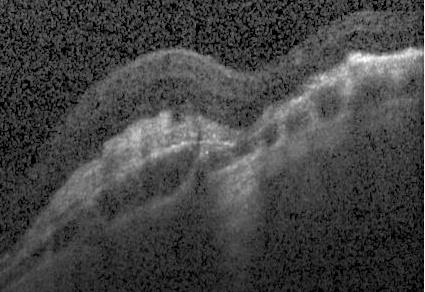subretinal_hyperreflective_material: (7, 107, 239, 254), (247, 46, 424, 139)
